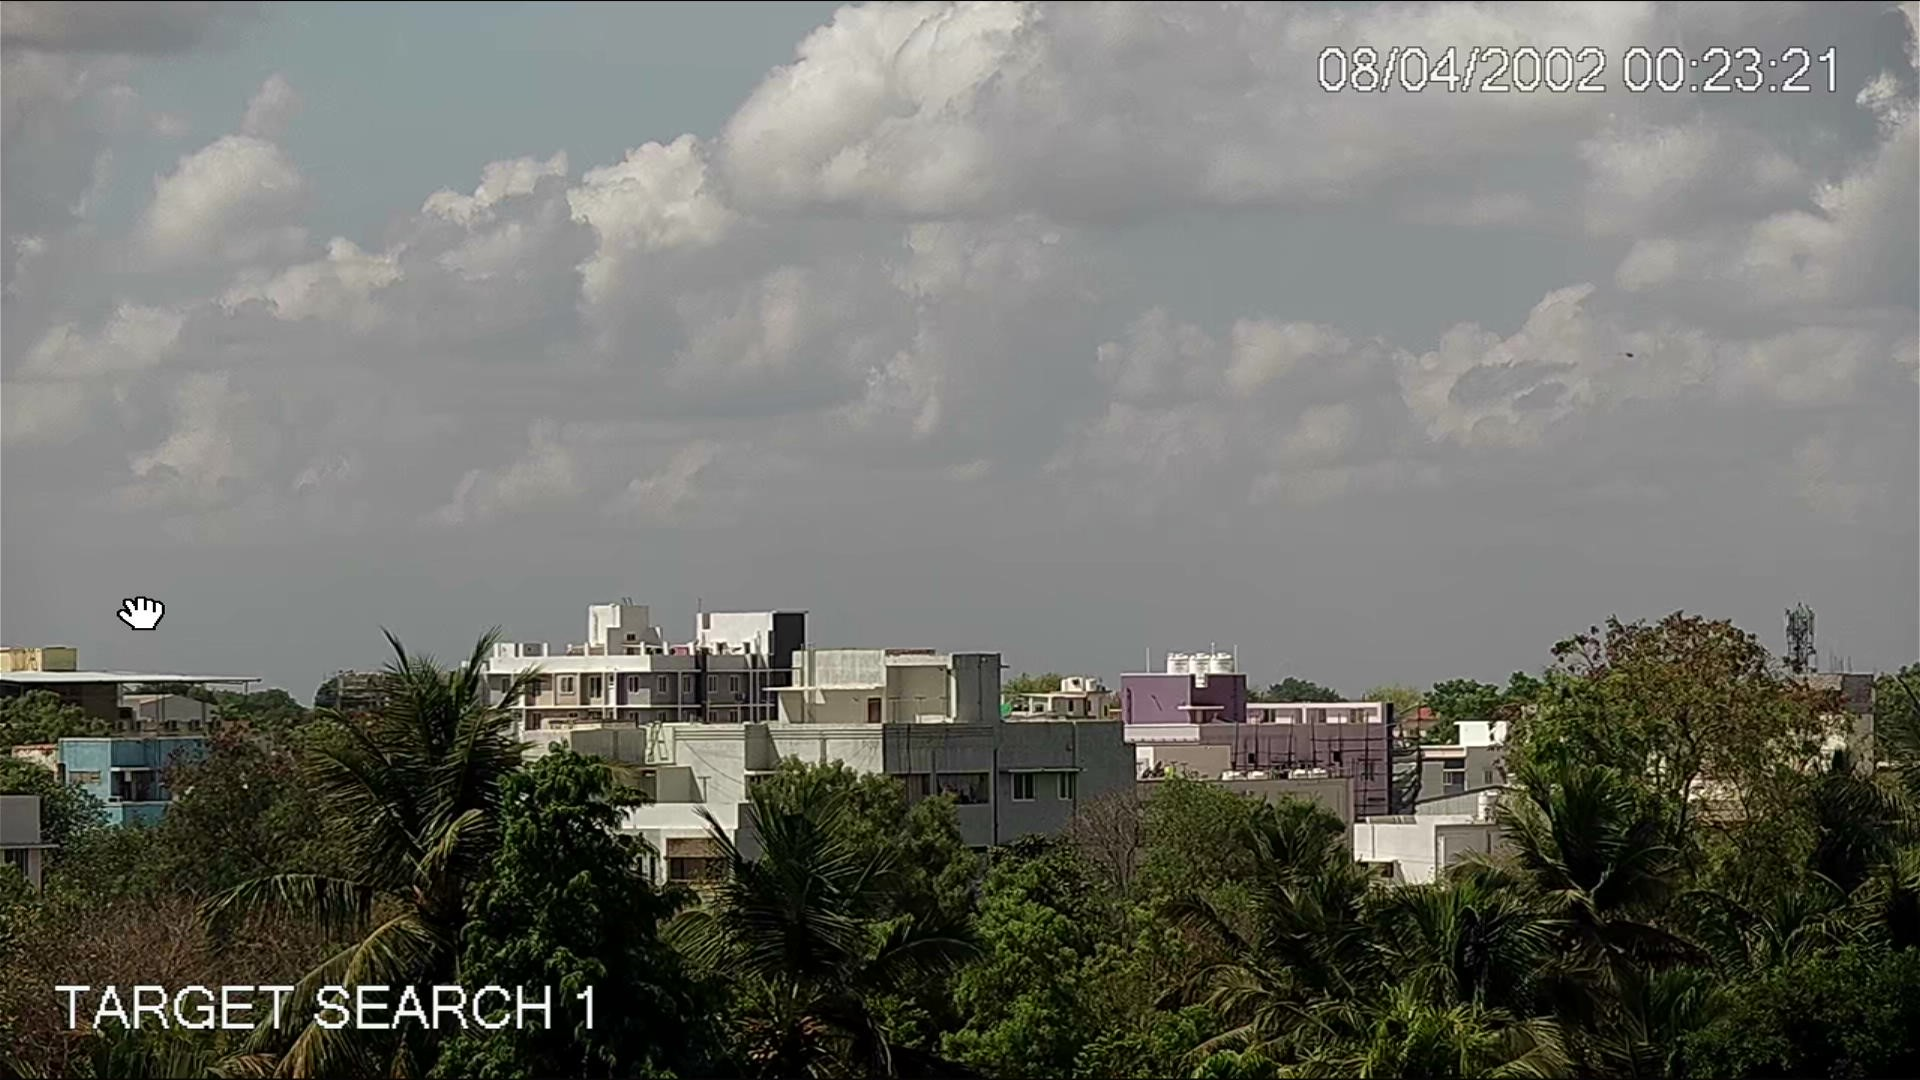SU_30: (1611, 345, 1639, 365)
